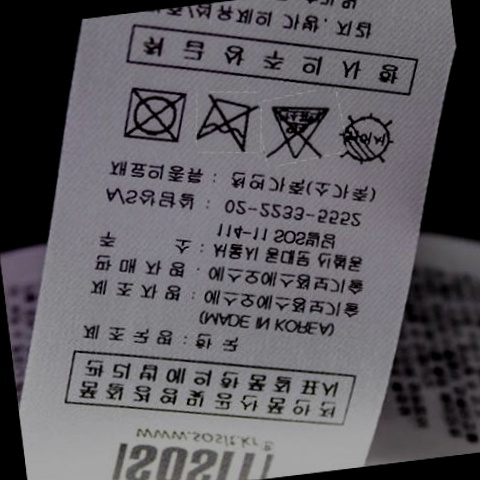DN_bleach: (264, 95, 329, 168)
DN_tumble_dry: (124, 85, 181, 147)
DN_wash: (195, 91, 253, 156)
dry_flat_in_shade: (340, 114, 395, 168)
